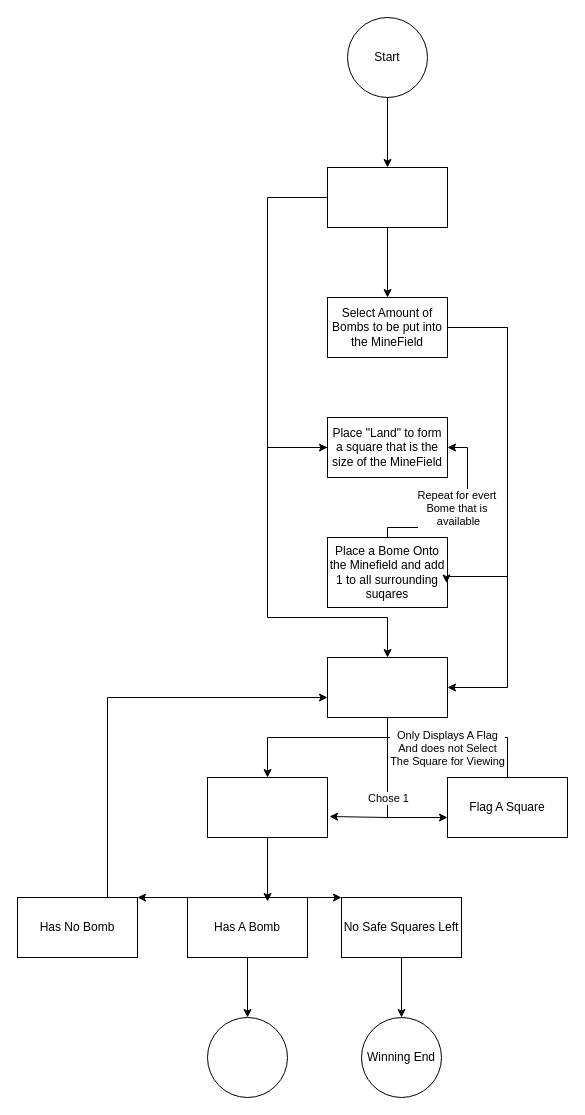
This 585x1115 diagram has some shape labels left out. Each missing label, with the centre of its shape:
Finished MineField: the point at 387,687
Lose Ending: the point at 247,1057
Set MineField Size: the point at 387,197
Visit A Square: the point at 267,807
